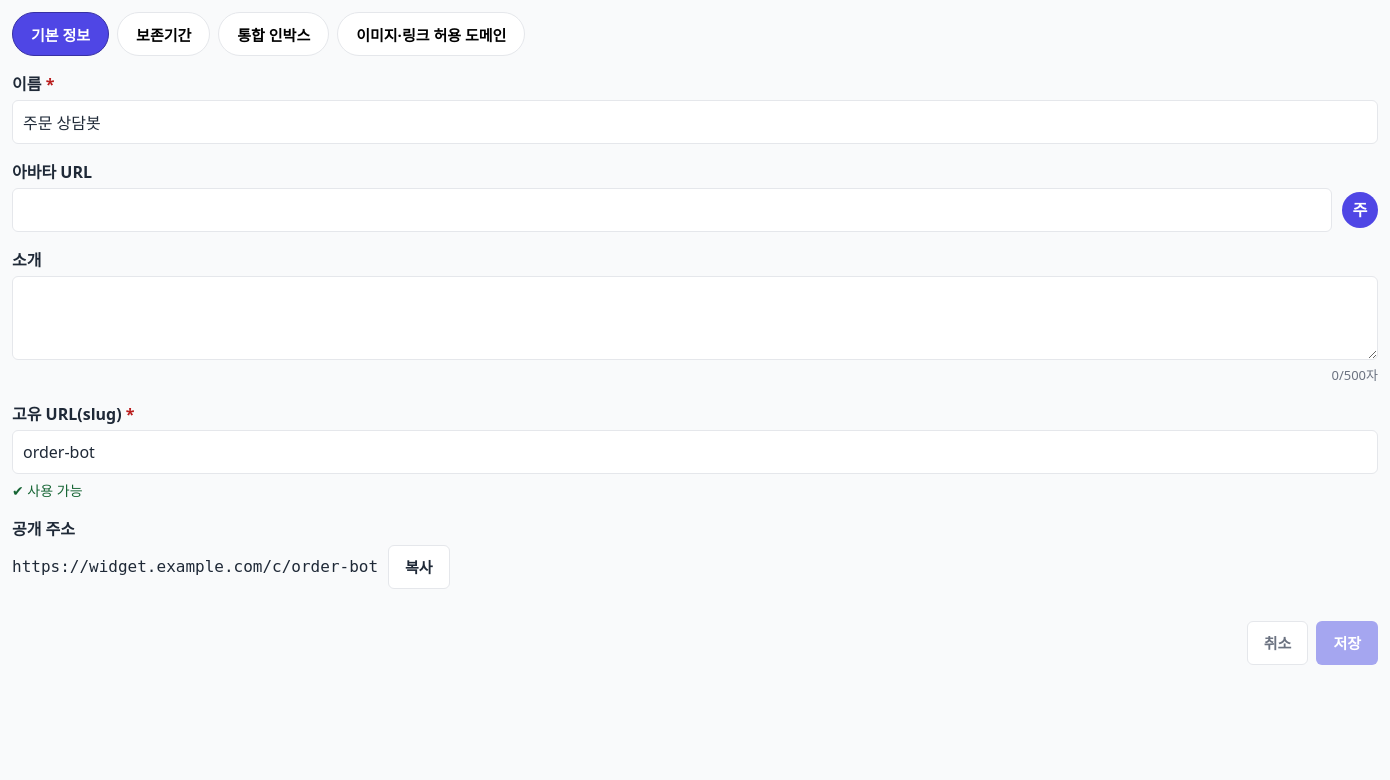
Test: SettingsTab — G2 보존기간 서브탭(권한별 렌더) › security:read가 있으면 서브탭이 보이고, 전환하면 ChatbotRetentionSection이 로드된다
Check: the field labelled "이름 *" is shown, box [12,100,1378,144]
Step 1. Click the tab "보존기간" → [164, 34], box [117,12,210,56]
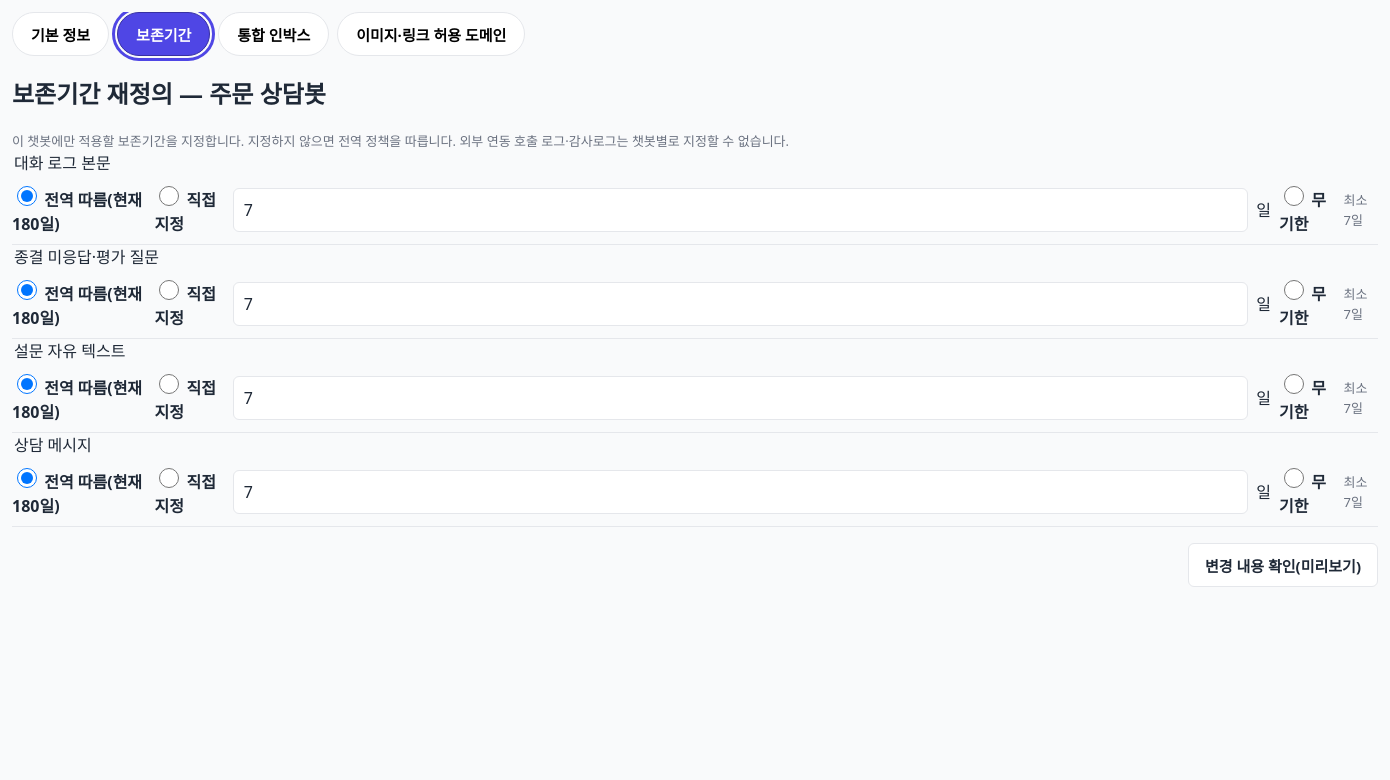
Check: the label labelled "이름 *" is gone
